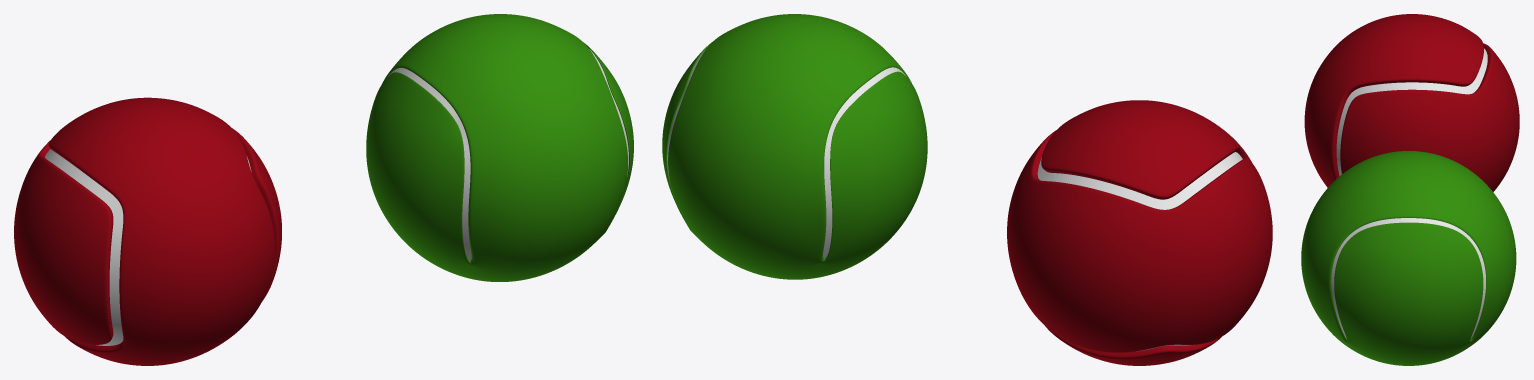
The model's file is Tenis ball.fbx.
3 renders of one model, left to right at view 1: azimuth 30°, elevation 25°; view 2: azimuth 150°, elevation 25°; view 3: azimuth 270°, elevation 25°, orthographic. The views are drawn at different scales.
Parts seen in each view (by area): view 1: Roundcube, Roundcube.002, Roundcube.003, Roundcube.001; view 2: Roundcube, Roundcube.002, Roundcube.003, Roundcube.001; view 3: Roundcube, Roundcube.002, Roundcube.003, Roundcube.001.
Boxes of the visible parts, x1=… form: Roundcube: x1=366, y1=14, x2=633, y2=281; Roundcube.002: x1=14, y1=97, x2=281, y2=365; Roundcube.003: x1=45, y1=149, x2=251, y2=345; Roundcube.001: x1=387, y1=49, x2=628, y2=260; Roundcube: x1=662, y1=14, x2=927, y2=279; Roundcube.002: x1=1007, y1=100, x2=1272, y2=365; Roundcube.003: x1=1037, y1=152, x2=1242, y2=351; Roundcube.001: x1=667, y1=47, x2=906, y2=258; Roundcube: x1=1301, y1=151, x2=1516, y2=365; Roundcube.002: x1=1304, y1=14, x2=1519, y2=191; Roundcube.003: x1=1336, y1=48, x2=1487, y2=175; Roundcube.001: x1=1331, y1=218, x2=1485, y2=338.
Bounding box in the file's own units: 492 × 196 × 199.
